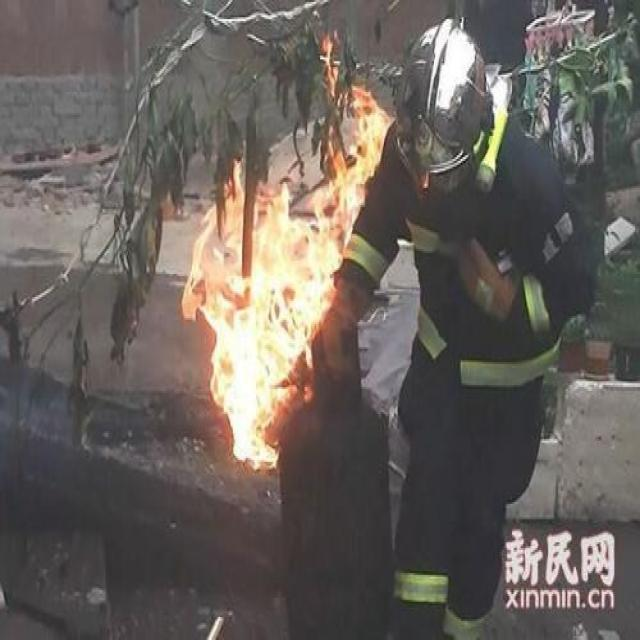fire: (198, 80, 405, 464)
